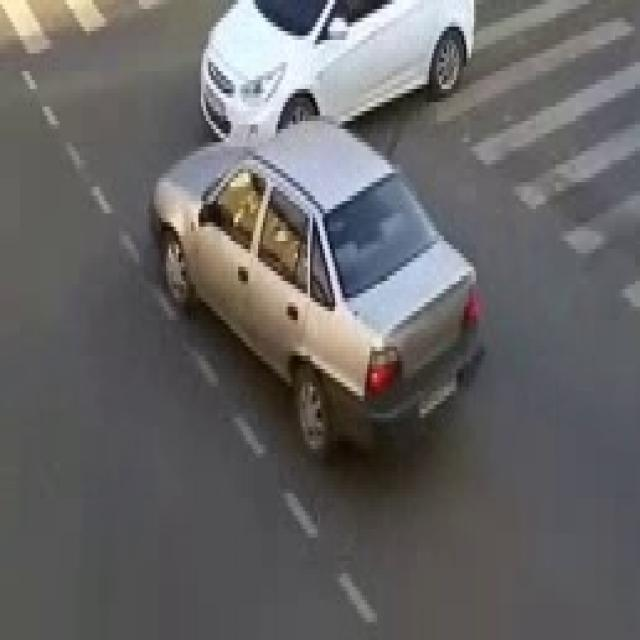accident: (144, 12, 492, 460)
